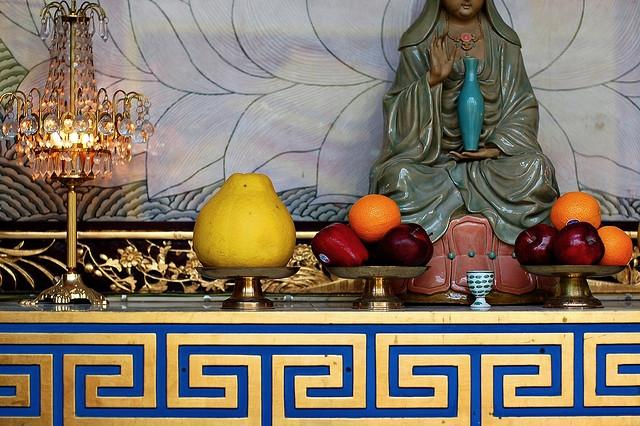apple: (311, 223, 369, 267), (553, 221, 605, 265), (379, 224, 429, 267), (514, 224, 558, 266)
orange: (348, 194, 402, 243), (550, 191, 602, 233), (596, 226, 632, 265)
